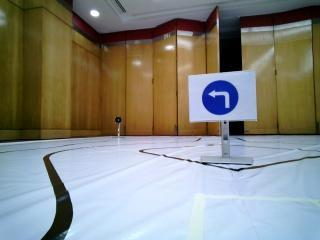left: (191, 76, 255, 116)
